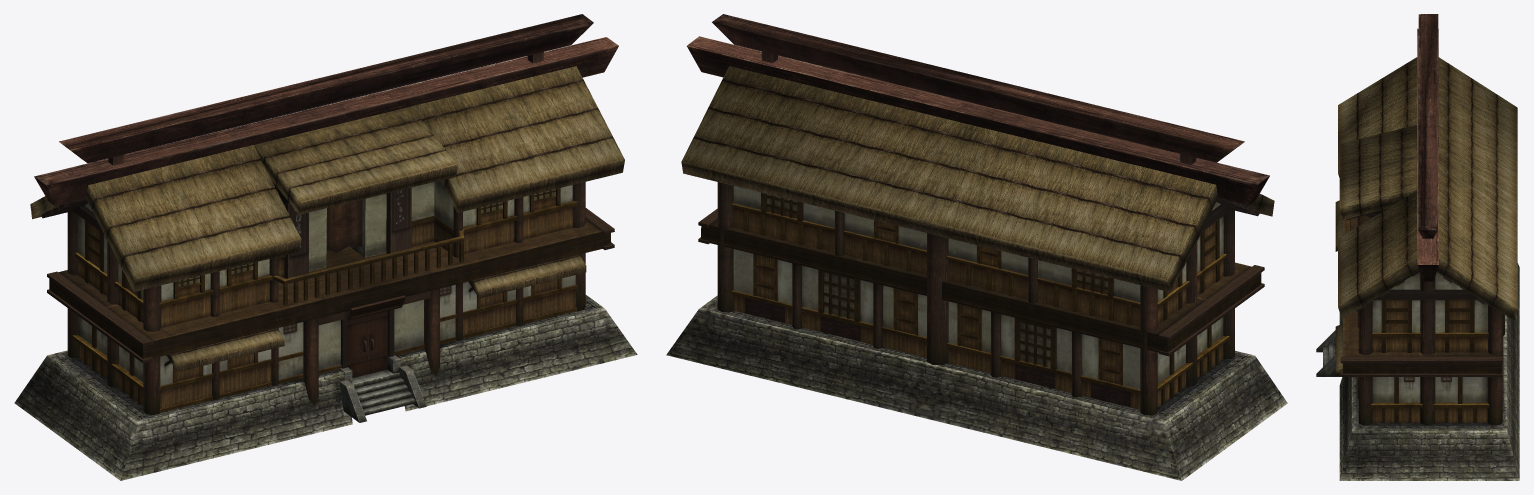
The model's file is fortms_build_office.fbx.
The picture shows the model from 3 angles, left to right: view 1: azimuth 30°, elevation 25°; view 2: azimuth 150°, elevation 25°; view 3: azimuth 270°, elevation 25°; orthographic projection. The views are drawn at different scales.
Visible parts, largest first — view 1: fortMS_build_office_roof, fortMS_build_office_door, fortMS_build_office_wall, fortMS_build_office_window; view 2: fortMS_build_office_roof, fortMS_build_office_door, fortMS_build_office_wall, fortMS_build_office_window; view 3: fortMS_build_office_roof, fortMS_build_office_door, fortMS_build_office_wall, fortMS_build_office_window.
Part boxes in pixels (box(x1,y1,x2,y2)): fortMS_build_office_roof: box(30, 14, 624, 371); fortMS_build_office_door: box(14, 72, 637, 480); fortMS_build_office_wall: box(78, 180, 575, 415); fortMS_build_office_window: box(67, 182, 585, 415); fortMS_build_office_roof: box(681, 14, 1274, 292); fortMS_build_office_door: box(666, 72, 1287, 480); fortMS_build_office_wall: box(733, 186, 1223, 409); fortMS_build_office_window: box(717, 182, 1234, 415); fortMS_build_office_roof: box(1335, 14, 1517, 376); fortMS_build_office_door: box(1316, 208, 1519, 480); fortMS_build_office_wall: box(1323, 215, 1487, 422); fortMS_build_office_window: box(1346, 216, 1504, 425).
Bounding box in the file's own units: 38.2 × 18.98 × 13.9.
